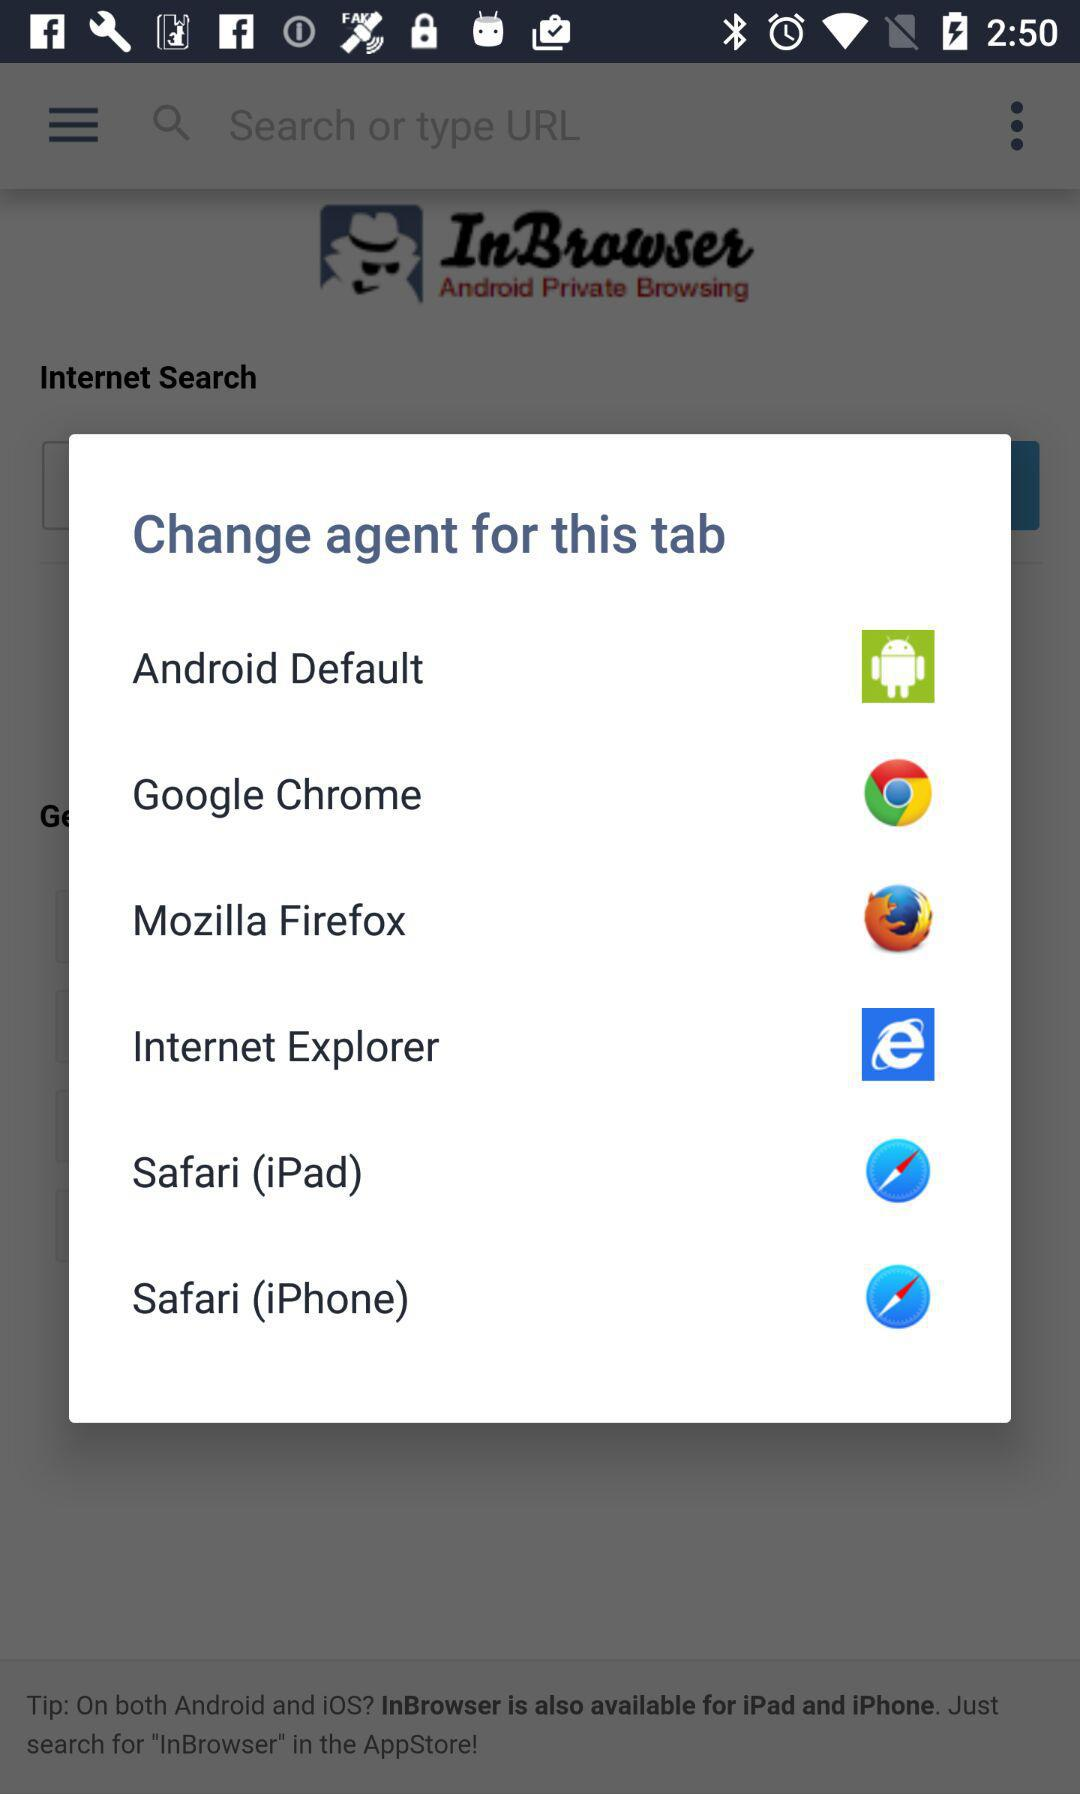Icon: (49, 108, 101, 145), (152, 104, 191, 144), (1010, 101, 1024, 152)
Image: (320, 205, 755, 302), (861, 630, 937, 704), (862, 1008, 937, 1082), (863, 884, 935, 953), (863, 759, 933, 828), (865, 1263, 931, 1330), (865, 1138, 931, 1205)
Modal: (69, 434, 1012, 1424)
Text: (27, 1693, 999, 1759), (135, 513, 726, 566), (231, 108, 582, 151), (135, 1029, 441, 1073), (133, 1278, 409, 1325), (135, 777, 423, 820), (132, 650, 425, 686), (133, 1153, 363, 1198), (135, 902, 407, 938), (42, 364, 258, 390)
UpperTaskBar: (1, 1, 1080, 64)
